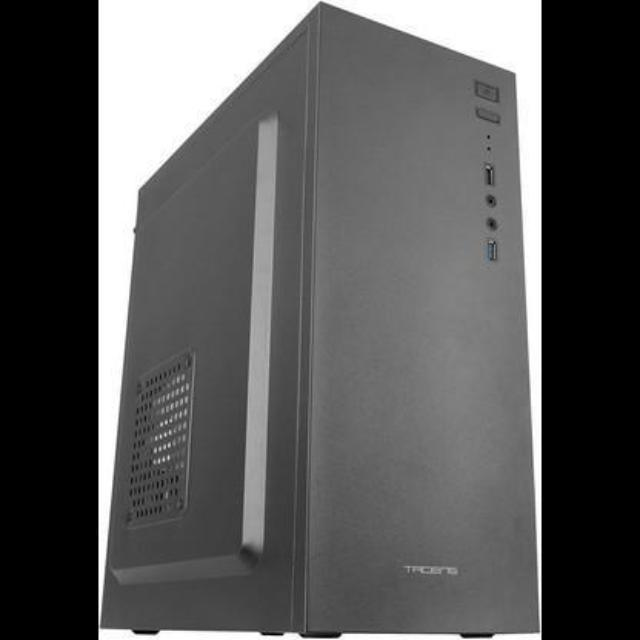CPU_Fan: (93, 0, 544, 640)
